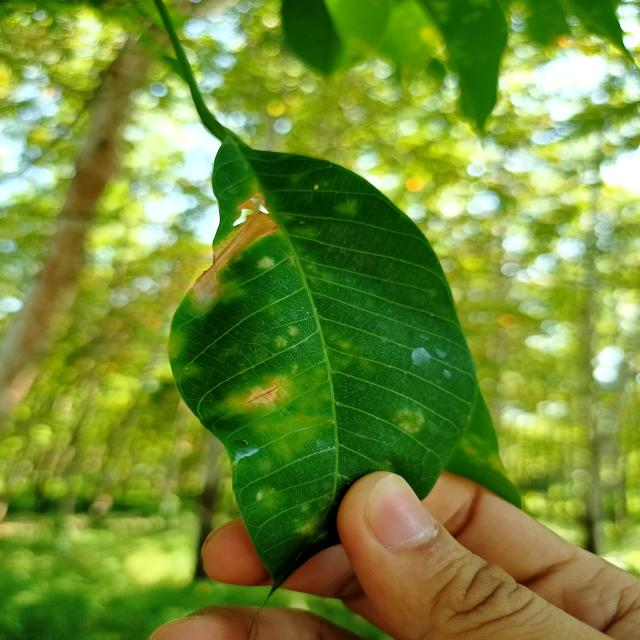Leaf-Blight: (192, 192, 280, 300), (246, 386, 278, 404)
